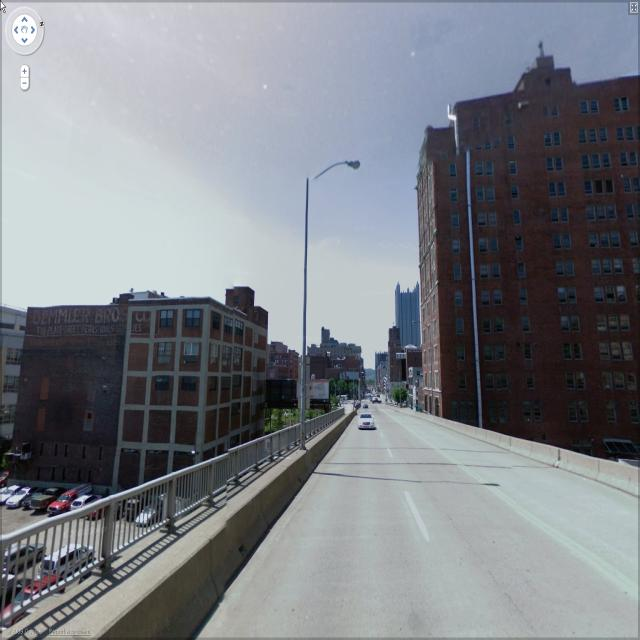b_1: (417, 99, 640, 436), (118, 289, 275, 491), (16, 296, 140, 477), (394, 279, 422, 352), (305, 327, 361, 357), (386, 324, 402, 400)
